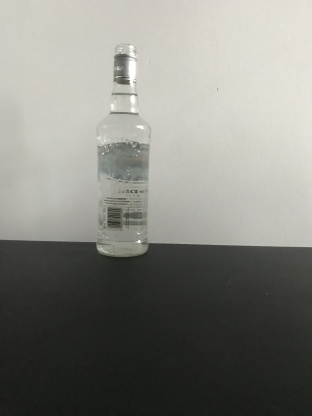nakretka: (111, 42, 138, 85)
